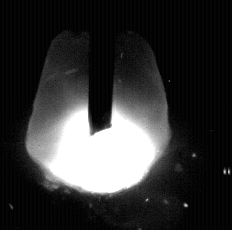arame: (88, 0, 113, 136)
poca: (25, 0, 171, 230)
